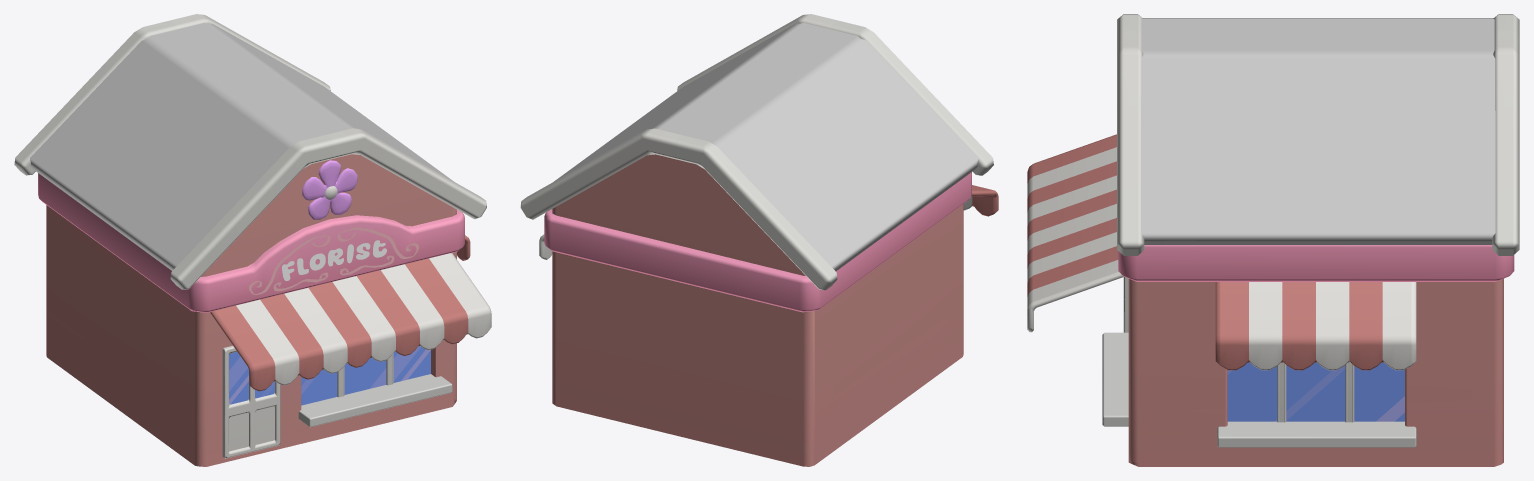
The model's file is Florist.fbx.
The picture shows the model from 3 angles, left to right: view 1: azimuth 30°, elevation 25°; view 2: azimuth 150°, elevation 25°; view 3: azimuth 270°, elevation 25°; orthographic projection. The views are drawn at different scales.
Parts seen in each view (by area): view 1: Cube.110, Cube.117, Cube.111; view 2: Cube.110; view 3: Cube.110.
Boxes of the visible parts, box(x1,y1,x2,y2) form: Cube.110: box(14, 14, 491, 466); Cube.117: box(222, 345, 280, 458); Cube.111: box(249, 227, 418, 294); Cube.110: box(520, 14, 998, 466); Cube.110: box(1027, 14, 1519, 466).
Size of the model in its own units: 699 by 599 by 744.
